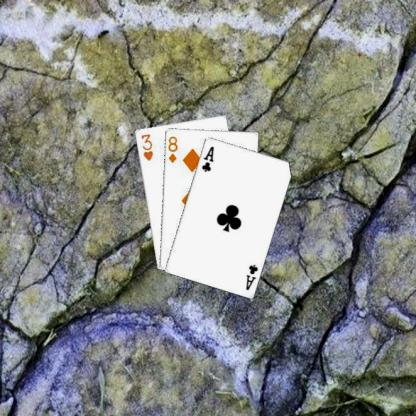3H: (138, 131, 154, 162)
8D: (166, 133, 178, 164)
AC: (198, 143, 215, 173), (243, 261, 259, 291)
